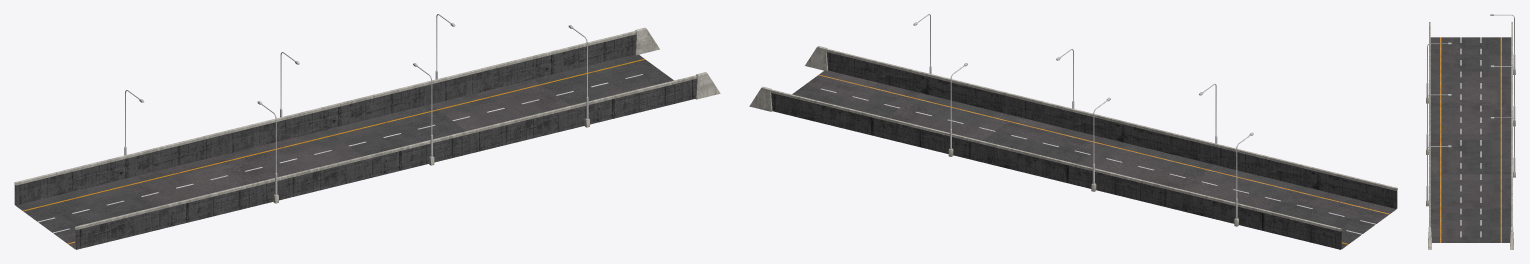
Rendered from roadl.gltf.
3 renders of one model, left to right at view 1: azimuth 30°, elevation 25°; view 2: azimuth 150°, elevation 25°; view 3: azimuth 270°, elevation 25°, orthographic. The views are drawn at different scales.
Visible parts, largest first — view 1: 道路14; view 2: 道路14; view 3: 道路14.
Part boxes in pixels (x1,y1,x2,y2): 道路14: [14, 14, 720, 249]; 道路14: [749, 14, 1397, 249]; 道路14: [1426, 14, 1515, 249].
Bounding box in the file's own units: 74.47 × 9.82 × 13.27.
5 materials, 3 textured.
